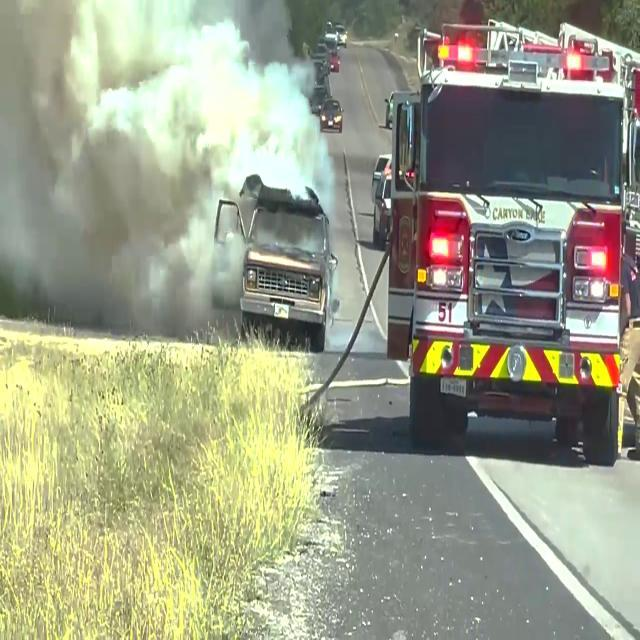Smoke: (0, 0, 334, 308)
